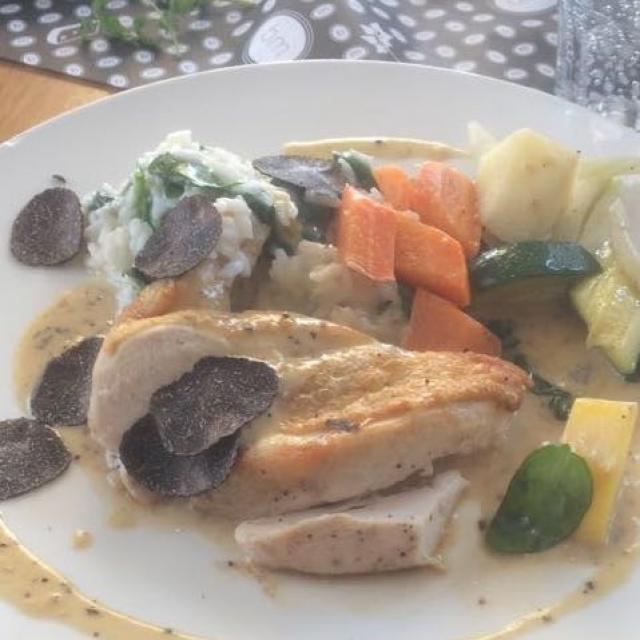chicken-breast: (98, 283, 546, 582)
mixed-vegetables: (317, 133, 623, 538)
risotto: (95, 134, 404, 326)
sauce: (9, 123, 625, 622)
